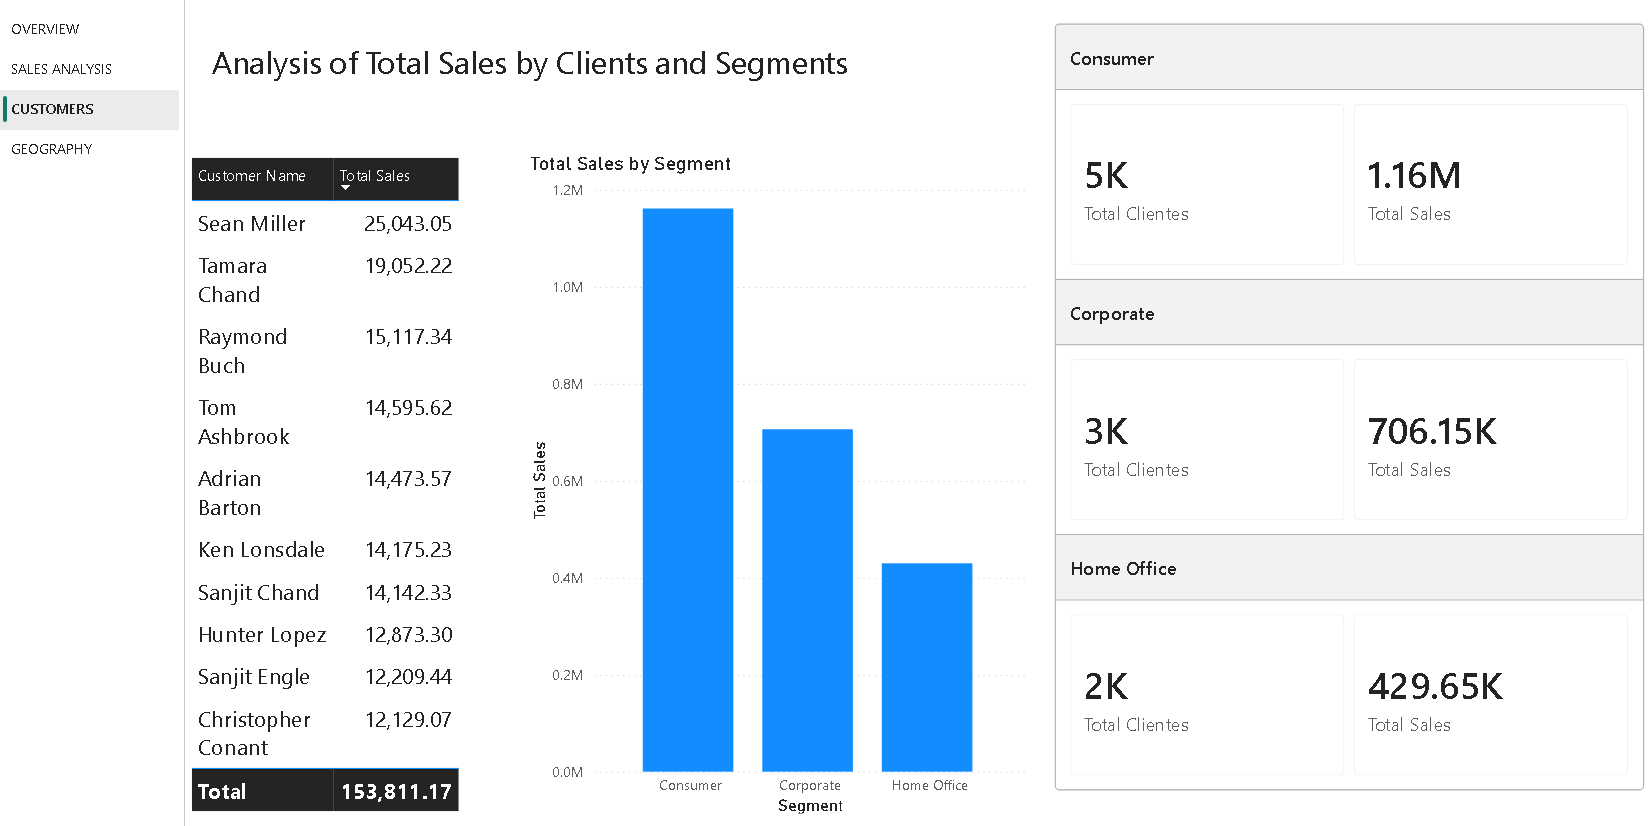

The dashboard page shown, as its layout file describes it:
{"tool":"powerbi","page":{"name":"CUSTOMERS","canvas":[1280,720],"ordinal":2},"visuals":[{"type":"tableEx","fields":{"Values":["clean_superstore.Customer Name","Sum(clean_superstore.Sales)"]},"box":[0,137,296,583],"z":0},{"type":"clusteredColumnChart","title":"Total Sales by Segment","fields":{"Y":["Sum(clean_superstore.Sales)"],"Category":["clean_superstore.Segment"]},"box":[296.5,136.9,442.9,583.4],"z":1000},{"type":"textbox","box":[0,0,603,129],"z":2000},{"type":"cardVisual","fields":{"Rows":["clean_superstore.Segment"],"Data":["clean_superstore.Total Clientes","Sum(clean_superstore.Sales)"]},"box":[754.9,0,525.1,720.4],"z":3000}]}

Visuals, with their boxes on the page's 1280x720 design canvas (x1, y1, x2, y2). These are canvas units, not pixel positions in the 1650x826 screenshot, which may show the page scaled, cropped or inside an application window:
tableEx - clean_superstore.Customer Name x Sum(clean_superstore.Sales): pyautogui.locateOnScreen(0, 137, 296, 720)
"Total Sales by Segment" clusteredColumnChart: pyautogui.locateOnScreen(296, 137, 739, 720)
textbox: pyautogui.locateOnScreen(0, 0, 603, 129)
cardVisual - clean_superstore.Segment x clean_superstore.Total Clientes: pyautogui.locateOnScreen(755, 0, 1280, 720)
